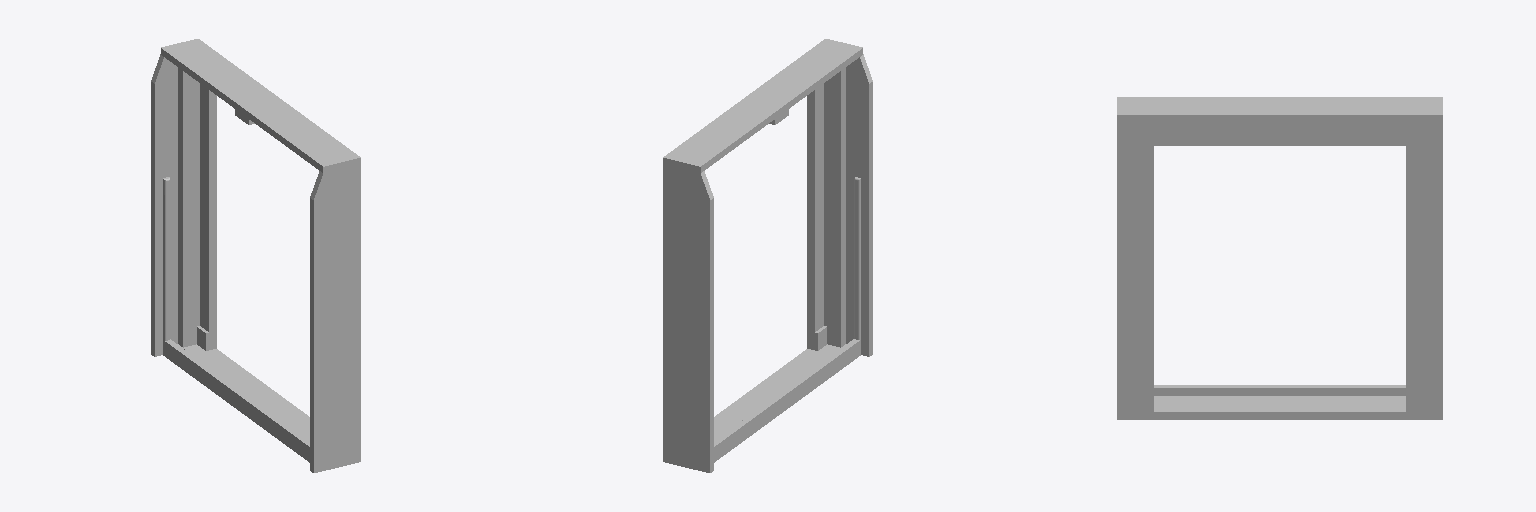
The model's file is Prints_led_cap.001.obj.
The picture shows the model from 3 angles: view 1: azimuth 30°, elevation 25°; view 2: azimuth 150°, elevation 25°; view 3: azimuth 270°, elevation 25°; orthographic projection.
Parts seen in each view (by area): view 1: led_cap.001; view 2: led_cap.001; view 3: led_cap.001.
Boxes of the visible parts, x1=… form: led_cap.001: x1=151, y1=39, x2=360, y2=472; led_cap.001: x1=663, y1=39, x2=872, y2=472; led_cap.001: x1=1117, y1=97, x2=1442, y2=419.
Bounding box in the file's own units: 0.0094 × 0.0574 × 0.0557.